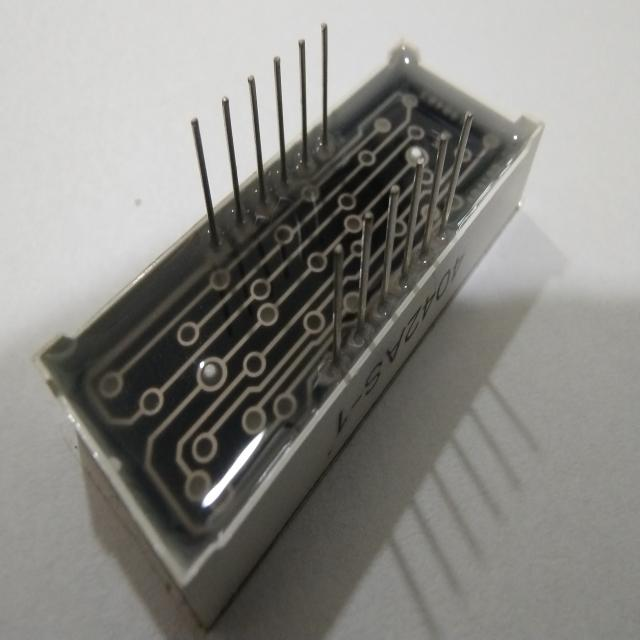7_segments_4_digits: (0, 19, 549, 628)
